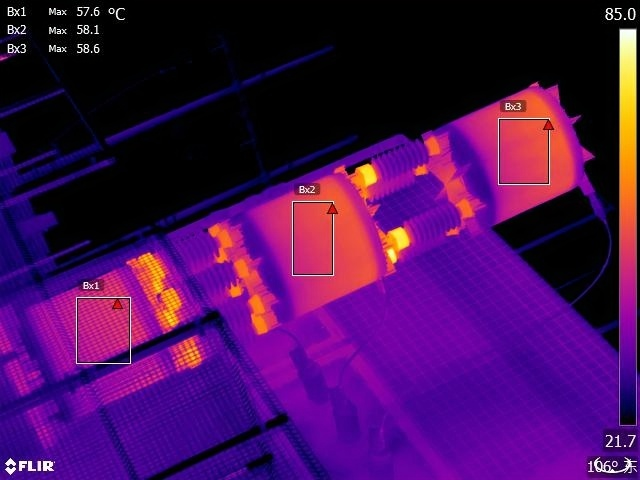capacitor: (30, 245, 201, 428), (241, 146, 386, 348), (438, 65, 591, 230)
post insulator: (168, 297, 270, 352), (139, 223, 236, 278), (386, 197, 474, 253), (163, 255, 250, 310), (356, 136, 439, 186)
